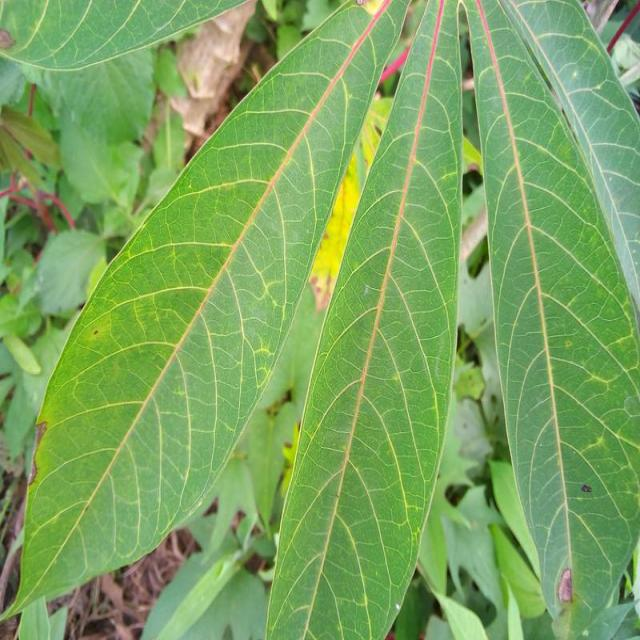cassava leaf: (2, 0, 410, 622), (264, 1, 464, 638), (460, 0, 639, 638)
